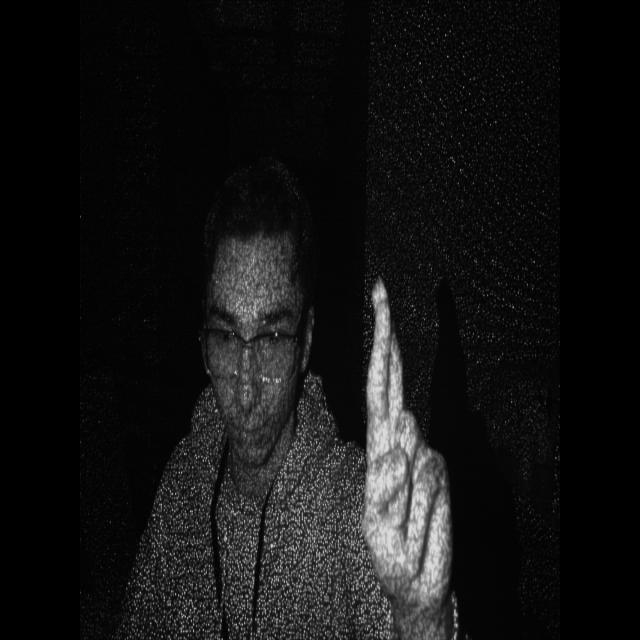R: (354, 266, 457, 620)
